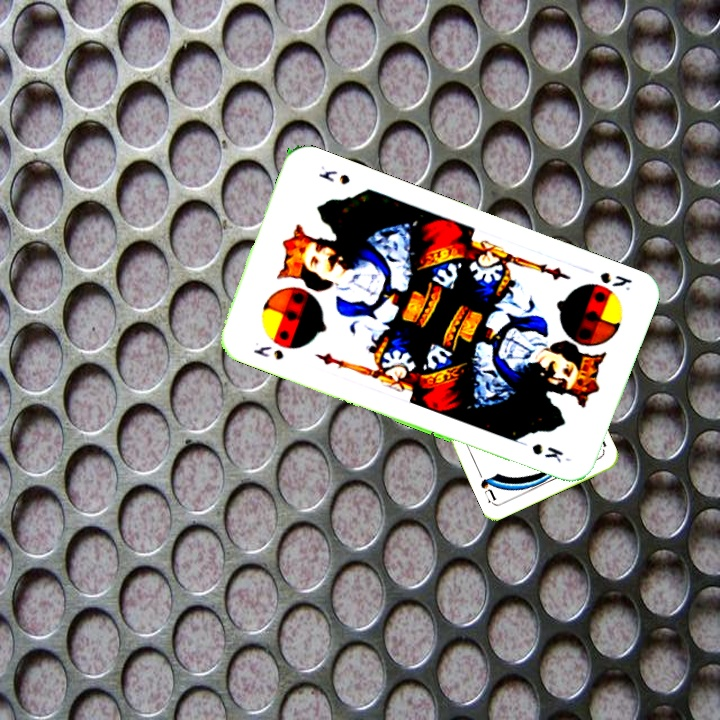SK: (595, 268, 635, 294), (249, 342, 286, 363)
